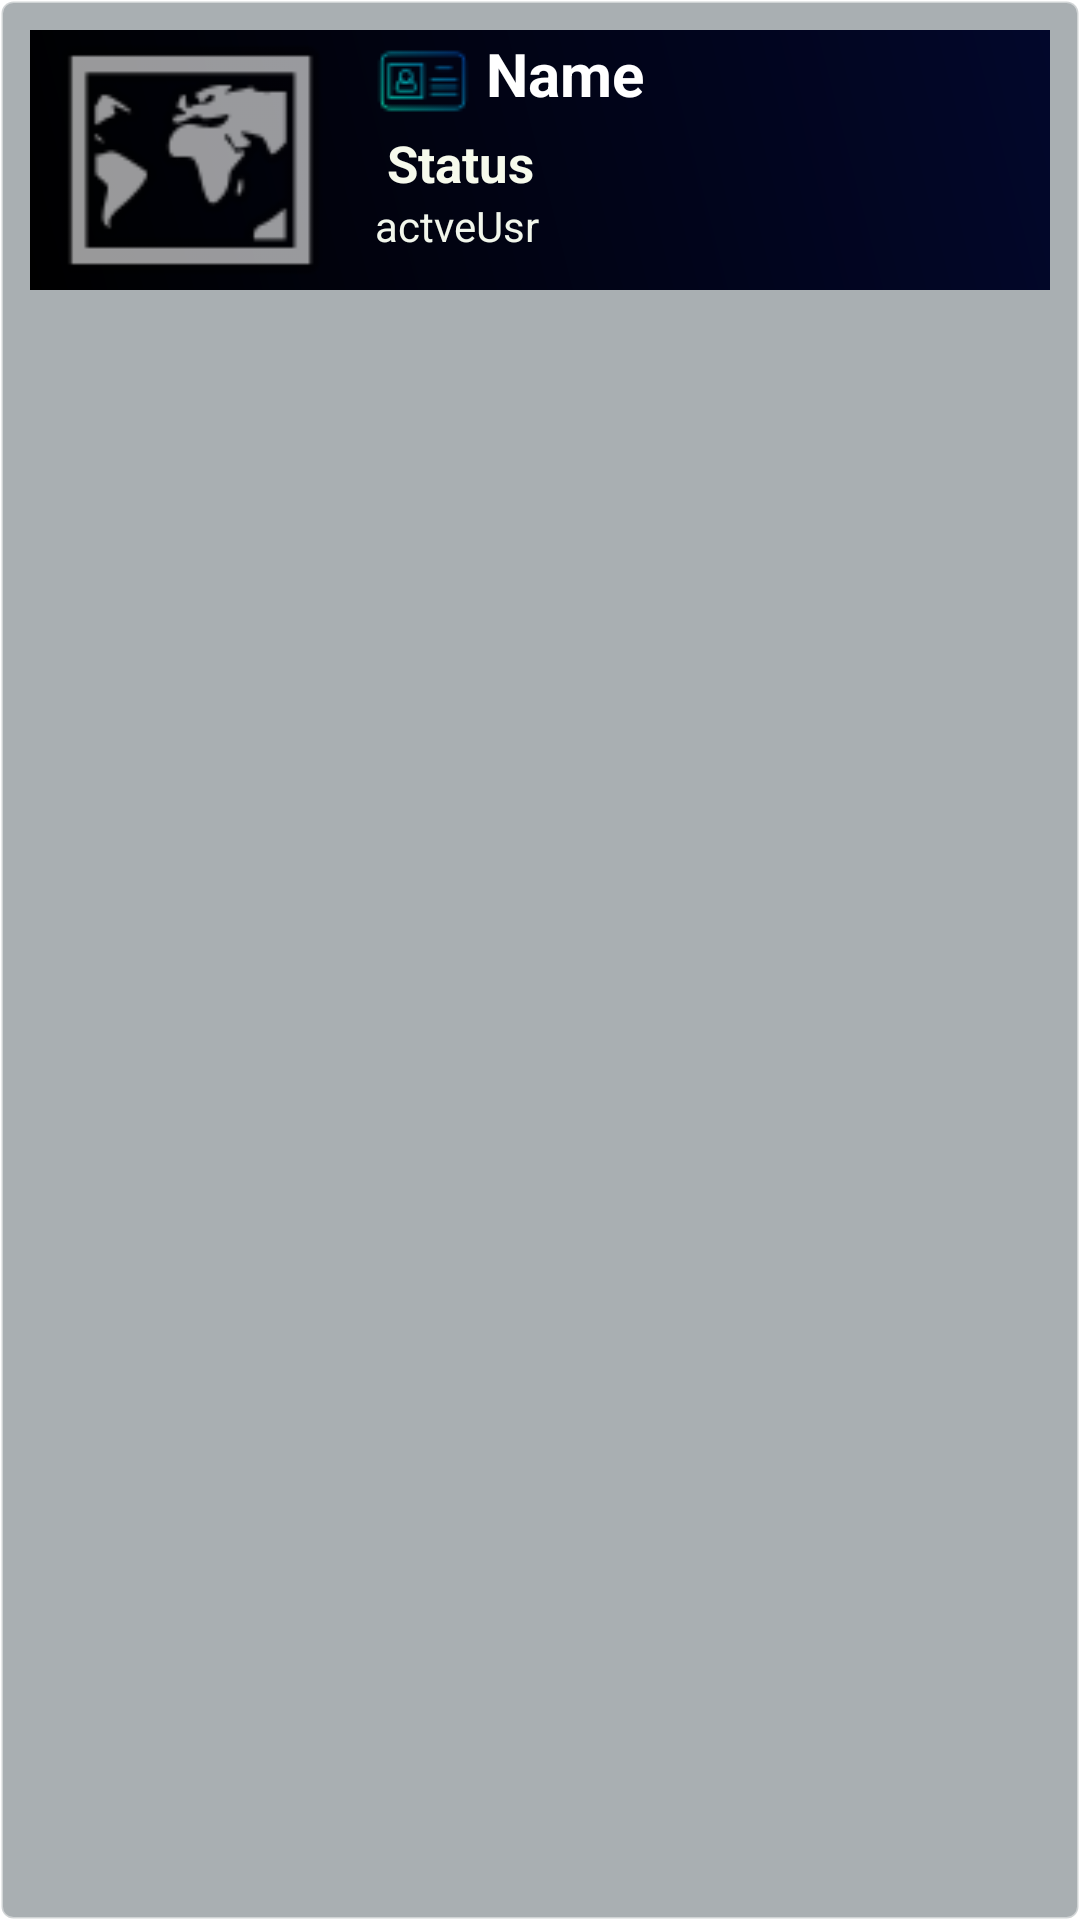

Icon click points for this 1080*1920 phone screenshot, format (x,y):
mapmode: (190,160)
